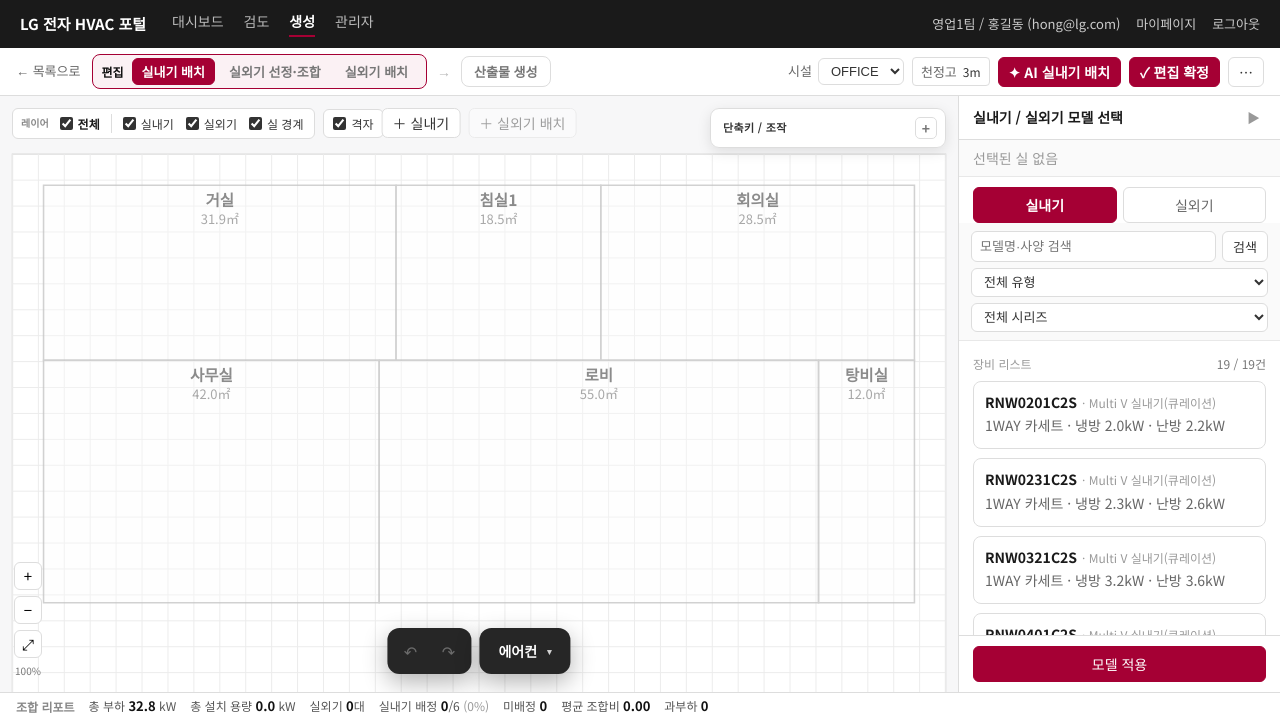
Test: App — 편집 모드 · 편집 확정 가드 › 배치 후 시설군을 바꾸면 무엇을 잃는지 확인을 받는다
Click the button "✦ AI 실내기 배치" at (1059,72), box [998,56,1121,86]
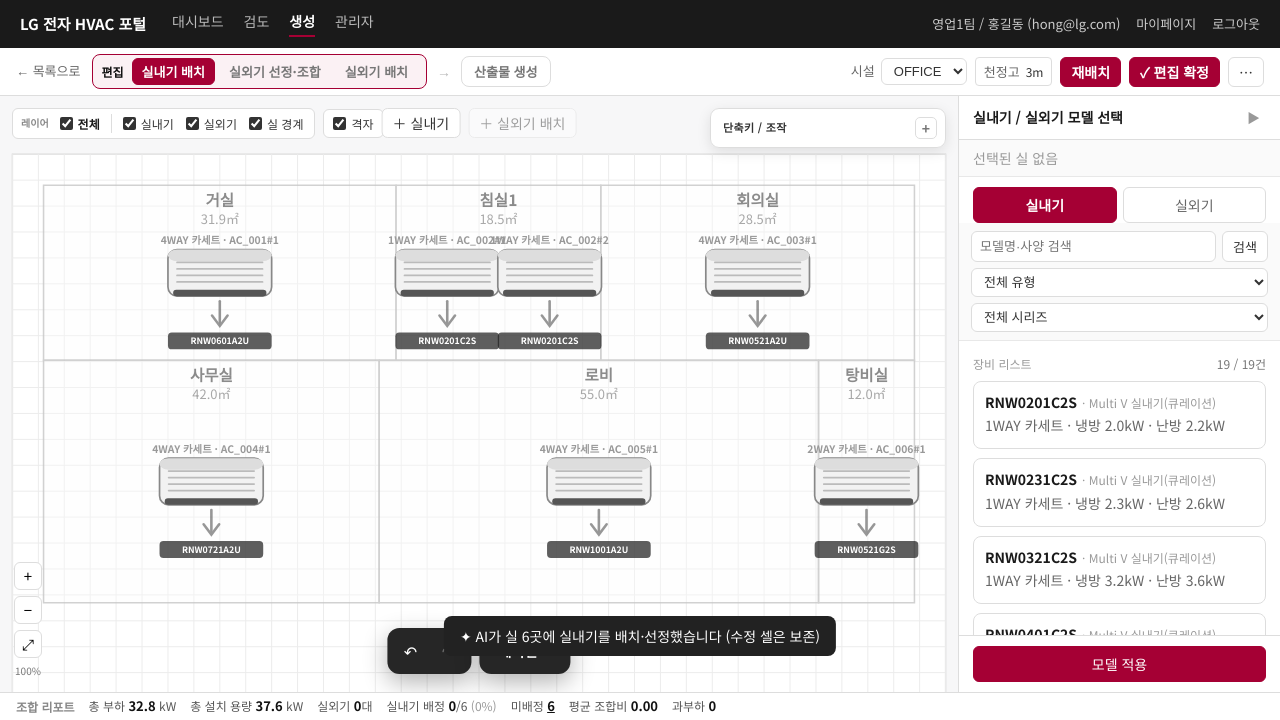
// 시설군을 바꾸면 실이 다시 시딩되고 배치·조합이 초기화된다 → 확인을 받는다.
Select "주거시설" in the dropdown named "시설군" at (924,72), box [881,58,967,85]
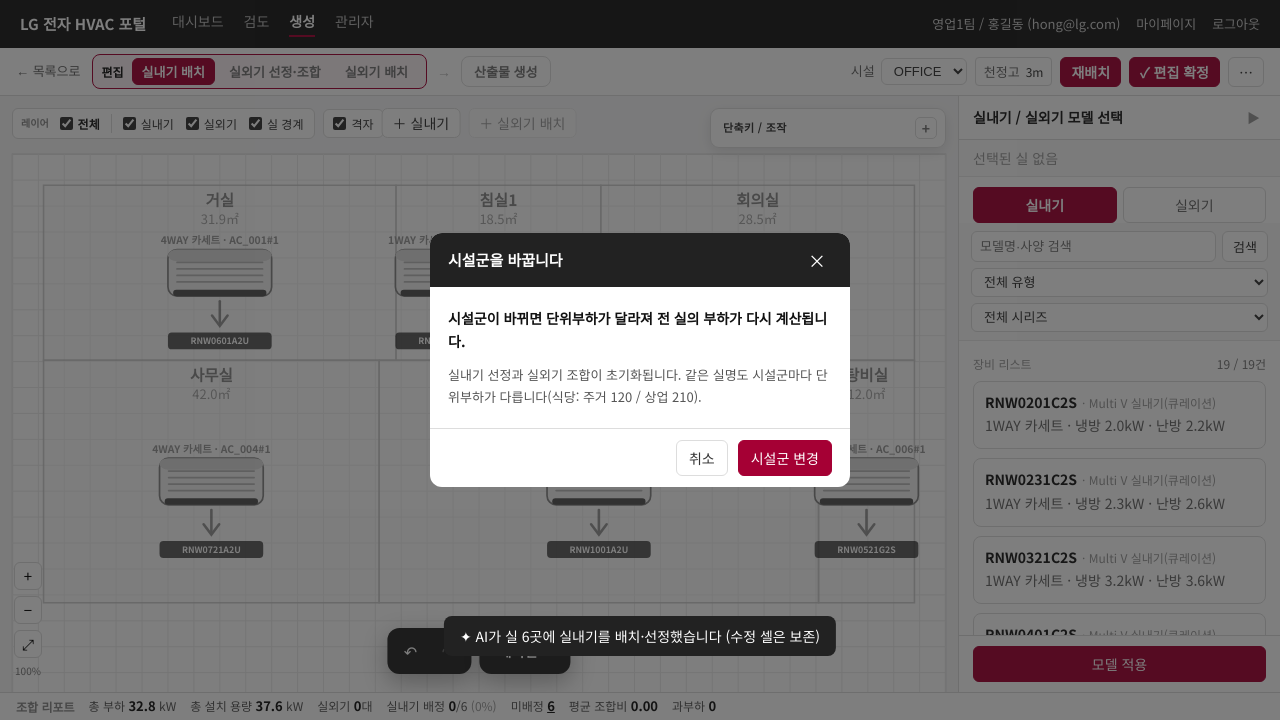
Expected: the dialog "시설군을 바꿉니다" is shown, [430,233,850,487]
Expected: the button "시설군 변경" is shown, [738,440,832,476]
